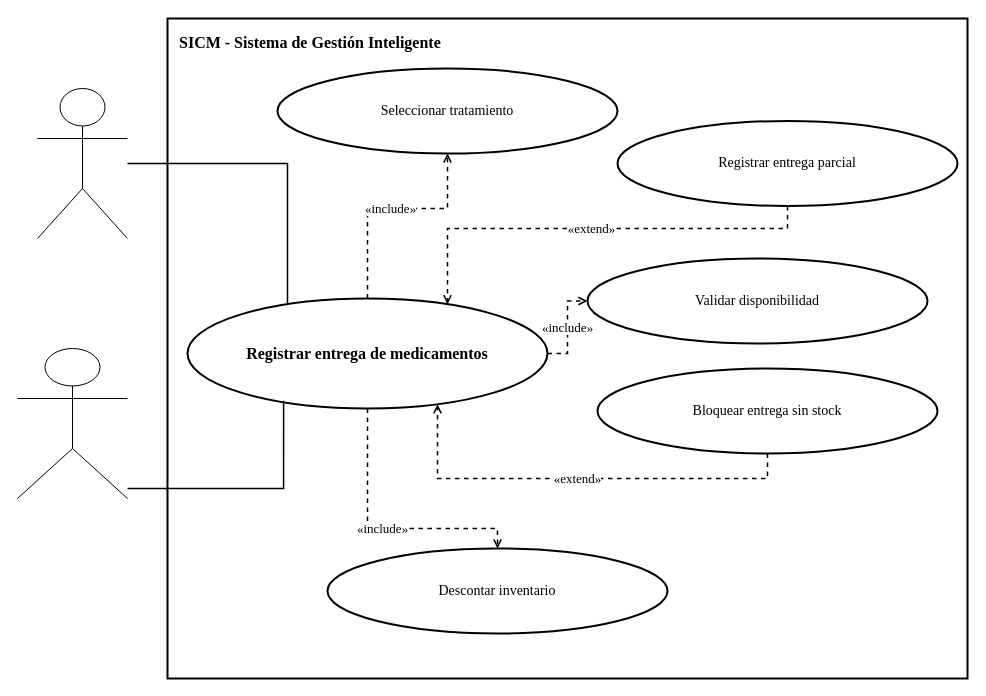
Some shapes in this 986 by 696 pixel diagram are drawn without their labels. The shapes that lost their labels are listed below. From the top down, each one's centre as x and y in pixels, then its label:
At pixel 82 163: "Enfermero(a)".
At pixel 72 423: "Paciente".
